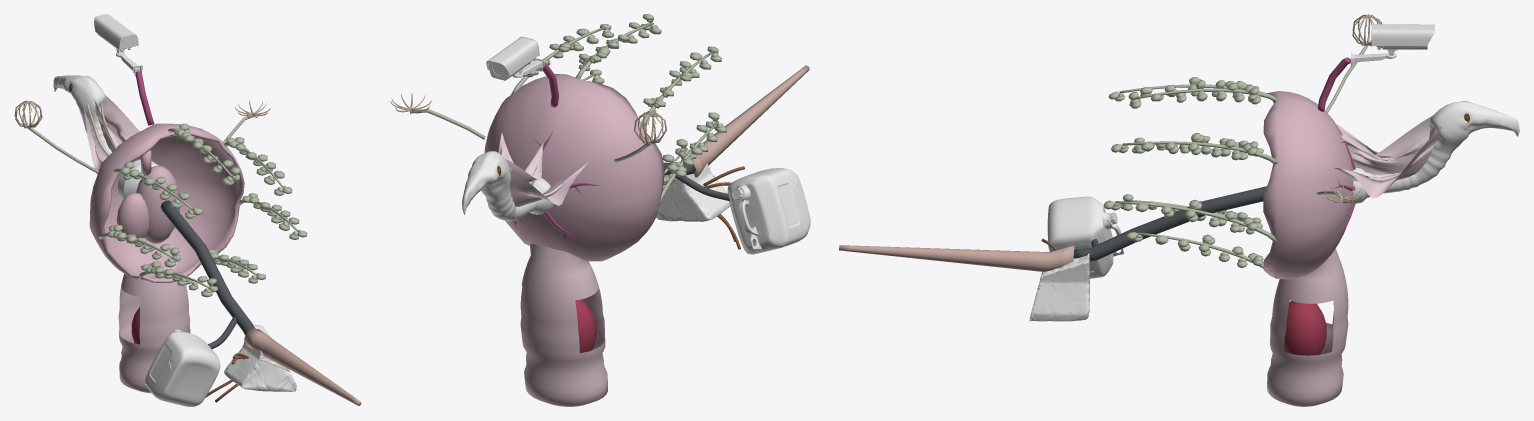
Rendered from chimera_f01.glb.
3 renders of one model, left to right at view 1: azimuth 30°, elevation 25°; view 2: azimuth 150°, elevation 25°; view 3: azimuth 270°, elevation 25°, orthographic. The views are drawn at different scales.
Visible parts, largest first — view 1: CH01_bell_membrane.001, CH01_respiratory_envelope.001, CH01_jerrycan_float.001, CH01_lung_buoyancy.001, CH01_concrete_counterweight.001, CH01_head_neck.001, CH01_spine_hose.001, CH01_tail_duct.001, CH01_cctv_eye.001, CH01_retama_tentacle_6.001, CH01_retama_tentacle_0.001, CH01_retama_tentacle_1.001 (+9 smaller); view 2: CH01_bell_membrane.001, CH01_respiratory_envelope.001, CH01_jerrycan_float.001, CH01_head_neck.001, CH01_concrete_counterweight.001, CH01_tail_duct.001, CH01_cctv_eye.001, CH01_fascia_lateral_R.001, CH01_retama_tentacle_6.001, CH01_retama_tentacle_5.001, CH01_retama_tentacle_0.001, CH01_retama_tentacle_1.001 (+5 smaller); view 3: CH01_bell_membrane.001, CH01_respiratory_envelope.001, CH01_head_neck.001, CH01_jerrycan_float.001, CH01_tail_duct.001, CH01_concrete_counterweight.001, CH01_spine_hose.001, CH01_fascia_dorsal.001, CH01_heart.001, CH01_cctv_eye.001, CH01_retama_tentacle_0.001, CH01_retama_tentacle_2.001 (+6 smaller).
Part boxes in pixels (box(x1,y1,x2,y2)): CH01_bell_membrane.001: box(89, 123, 244, 283); CH01_respiratory_envelope.001: box(118, 261, 190, 393); CH01_jerrycan_float.001: box(144, 329, 220, 406); CH01_lung_buoyancy.001: box(116, 150, 179, 243); CH01_concrete_counterweight.001: box(224, 325, 296, 391); CH01_head_neck.001: box(53, 75, 158, 200); CH01_spine_hose.001: box(160, 200, 255, 335); CH01_tail_duct.001: box(244, 328, 361, 405); CH01_cctv_eye.001: box(94, 14, 142, 76); CH01_retama_tentacle_6.001: box(112, 161, 202, 218); CH01_retama_tentacle_0.001: box(168, 123, 240, 185); CH01_retama_tentacle_1.001: box(224, 137, 292, 195); CH01_bell_membrane.001: box(484, 74, 664, 261); CH01_respiratory_envelope.001: box(520, 244, 607, 406); CH01_jerrycan_float.001: box(727, 168, 810, 254); CH01_head_neck.001: box(462, 151, 553, 221); CH01_concrete_counterweight.001: box(656, 163, 730, 221); CH01_tail_duct.001: box(681, 65, 809, 177); CH01_cctv_eye.001: box(486, 36, 544, 80); CH01_fascia_lateral_R.001: box(509, 157, 595, 206); CH01_retama_tentacle_6.001: box(641, 46, 721, 128); CH01_retama_tentacle_5.001: box(658, 112, 727, 206); CH01_retama_tentacle_0.001: box(575, 14, 661, 78); CH01_retama_tentacle_1.001: box(511, 24, 613, 94); CH01_bell_membrane.001: box(1263, 91, 1353, 279); CH01_respiratory_envelope.001: box(1267, 248, 1348, 406); CH01_head_neck.001: box(1353, 101, 1519, 203); CH01_jerrycan_float.001: box(1047, 196, 1123, 278); CH01_tail_duct.001: box(839, 245, 1074, 271); CH01_concrete_counterweight.001: box(1029, 253, 1089, 321); CH01_spine_hose.001: box(1073, 186, 1266, 261); CH01_fascia_dorsal.001: box(1341, 115, 1433, 175); CH01_heart.001: box(1284, 301, 1326, 355); CH01_cctv_eye.001: box(1351, 24, 1434, 67); CH01_retama_tentacle_0.001: box(1128, 80, 1278, 108); CH01_retama_tentacle_2.001: box(1103, 199, 1277, 243).
Size of the model in its own units: 1.51 by 1.99 by 3.24.
